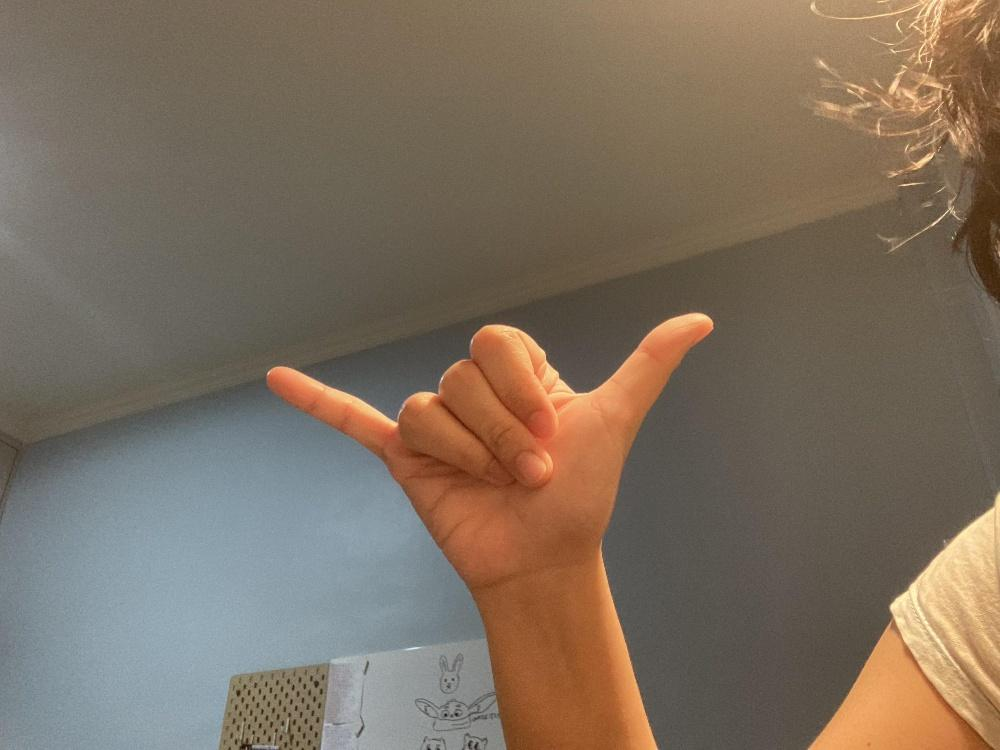y: (265, 310, 713, 582)
